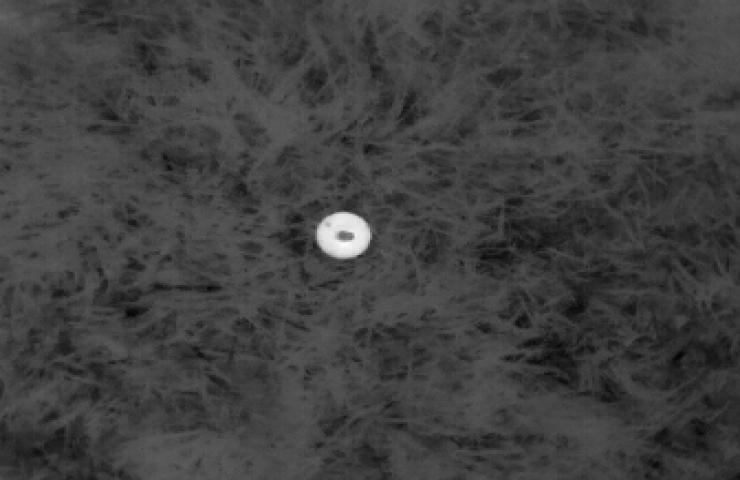landmines: (310, 206, 379, 266)
